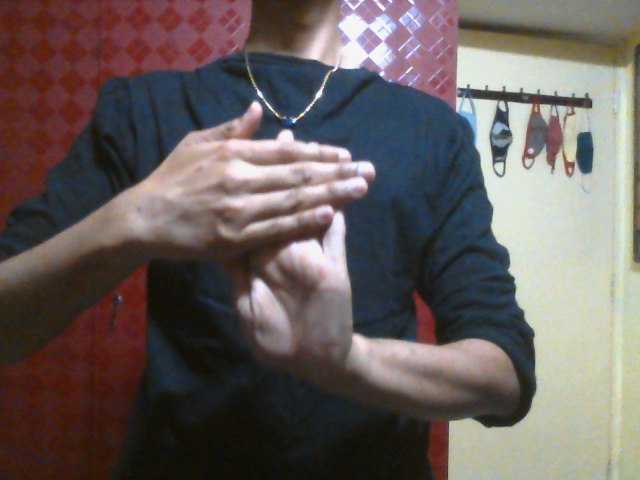H: (154, 99, 376, 371)
